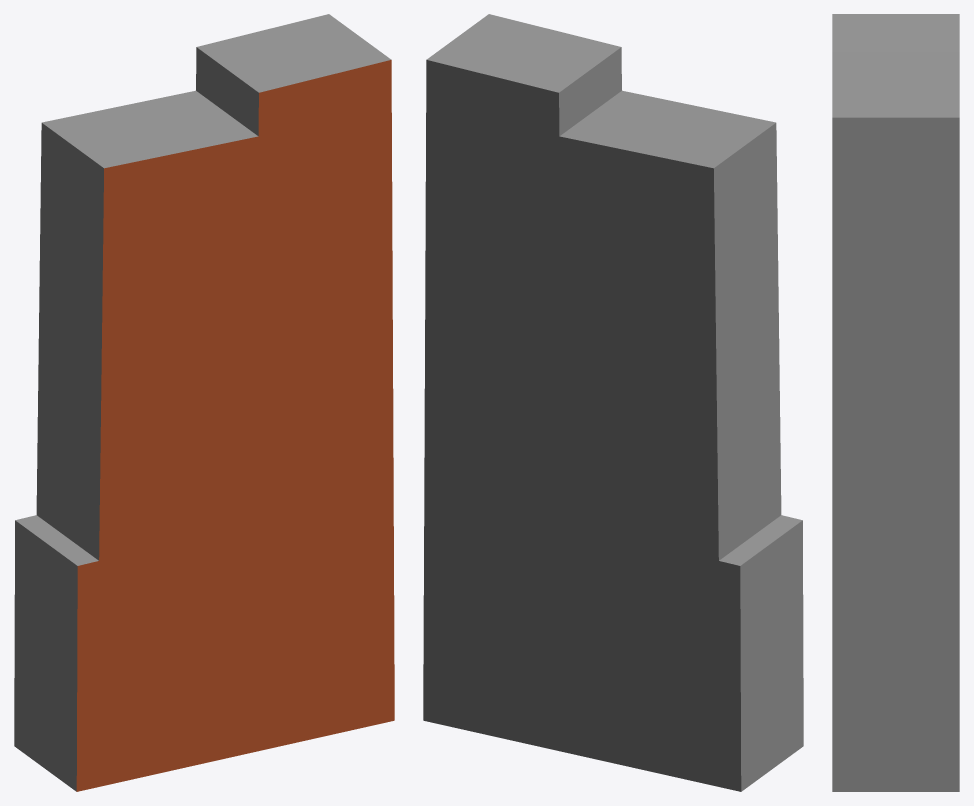
File: construction_2164_assumed_A_GNR_h6m.obj
The picture shows the model from 3 angles, left to right: view 1: azimuth 30°, elevation 25°; view 2: azimuth 150°, elevation 25°; view 3: azimuth 270°, elevation 25°; orthographic projection.
Visible parts, largest first — view 1: construction_2164_assumed_A_GNR; view 2: construction_2164_assumed_A_GNR; view 3: construction_2164_assumed_A_GNR.
Boxes of the visible parts, box(x1,y1,x2,y2) form: construction_2164_assumed_A_GNR: box(14, 14, 394, 791); construction_2164_assumed_A_GNR: box(423, 14, 803, 791); construction_2164_assumed_A_GNR: box(832, 14, 959, 791).
Bounding box in the file's own units: 17.61 × 35.02 × 6.
